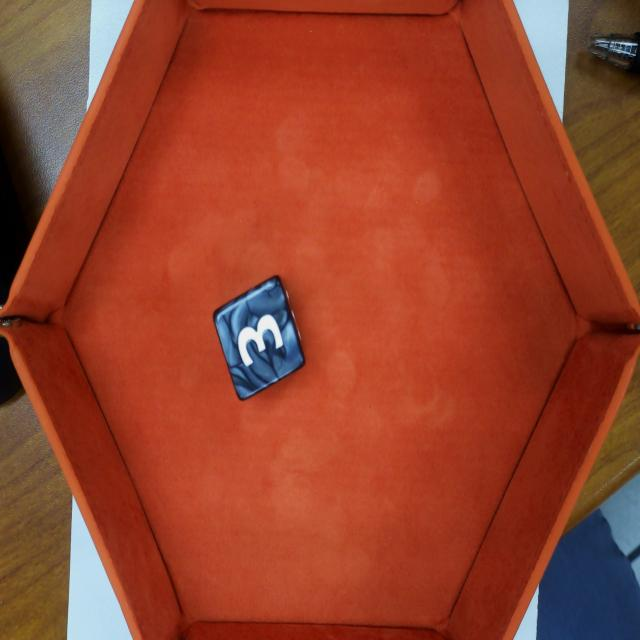dice: (211, 273, 307, 405)
